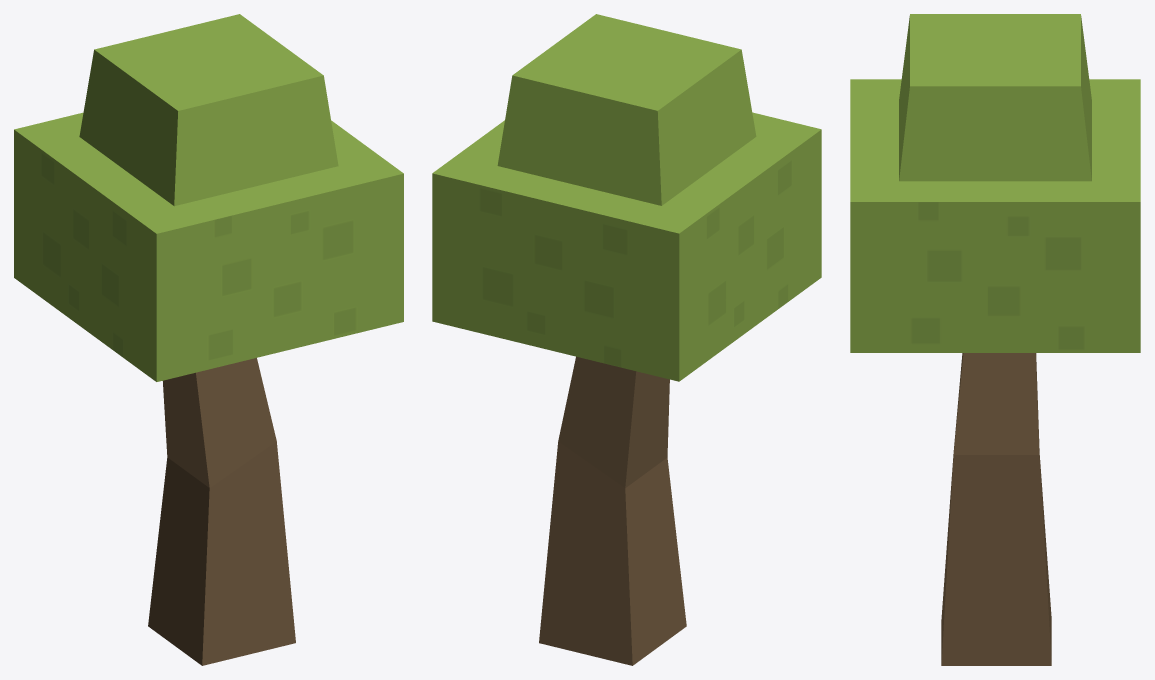
File: Tree_04.fbx
3 renders of one model, left to right at view 1: azimuth 30°, elevation 25°; view 2: azimuth 150°, elevation 25°; view 3: azimuth 270°, elevation 25°, orthographic.
Visible parts, largest first — view 1: Tree_04; view 2: Tree_04; view 3: Tree_04.
Boxes of the visible parts, left/top/right/bottom form: Tree_04: left=14, top=14, right=403, bottom=665; Tree_04: left=432, top=14, right=821, bottom=665; Tree_04: left=850, top=14, right=1140, bottom=665.
Size of the model in its own units: 1.57 by 3.5 by 1.57.
